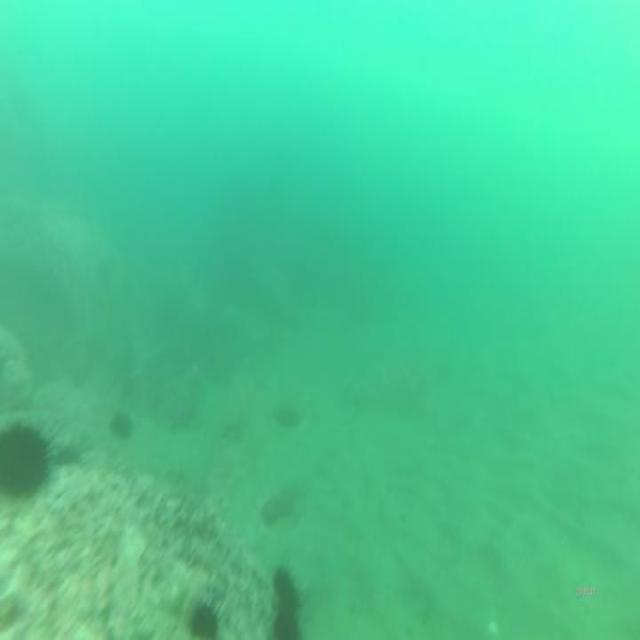echinus: (0, 419, 49, 509), (271, 562, 301, 640), (186, 596, 218, 640)
